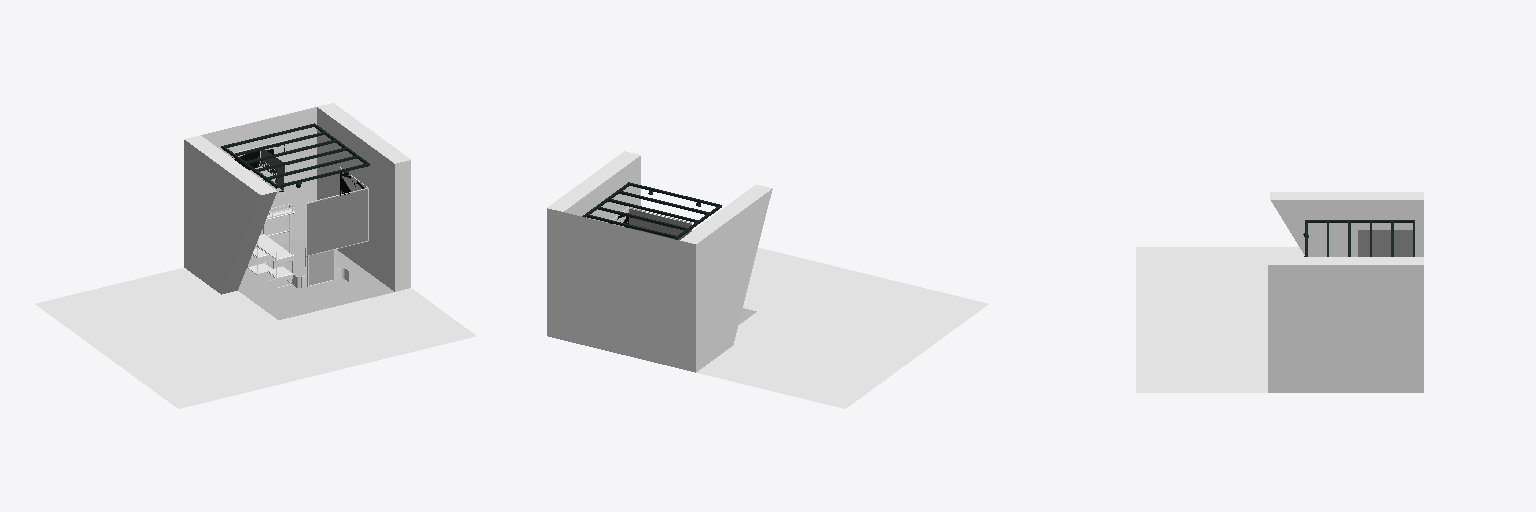
The picture shows the model from 3 angles: view 1: azimuth 30°, elevation 25°; view 2: azimuth 150°, elevation 25°; view 3: azimuth 270°, elevation 25°; orthographic projection.
Parts seen in each view (by area): view 1: Plane, Plane.1_1, Plane.5, Plane.1, Plane.3, Plane_1, Cube.3_1, Cube.1, 350mWall_cover; view 2: Plane, Plane.3, Plane.1_1, Plane.5, Plane.1, Cube.3_1; view 3: Plane.5, Plane, Plane.1, Plane.1_1, Cube.
Part boxes in pixels (x1,y1,x2,y2): Plane: (35,268,343,408); Plane.1_1: (184,135,276,294); Plane.5: (317,103,410,291); Plane.1: (279,288,475,368); Plane.3: (201,107,316,247); Plane_1: (238,238,393,319); Cube.3_1: (306,189,367,256); Cube.1: (232,145,284,194); 350mWall_cover: (309,250,333,285); Plane: (696,263,988,408); Plane.3: (563,212,678,367); Plane.1_1: (679,184,772,372); Plane.5: (547,151,640,339); Plane.1: (743,248,822,311); Cube.3_1: (629,209,690,239); Plane.5: (1268,257,1423,392); Plane: (1136,247,1304,327); Plane.1: (1136,328,1267,392); Plane.1_1: (1270,192,1423,256); Cube: (1358,230,1412,256).
Bounding box in the file's own units: 1440 × 590 × 1200.
Materials: 13 (2 with a texture image).